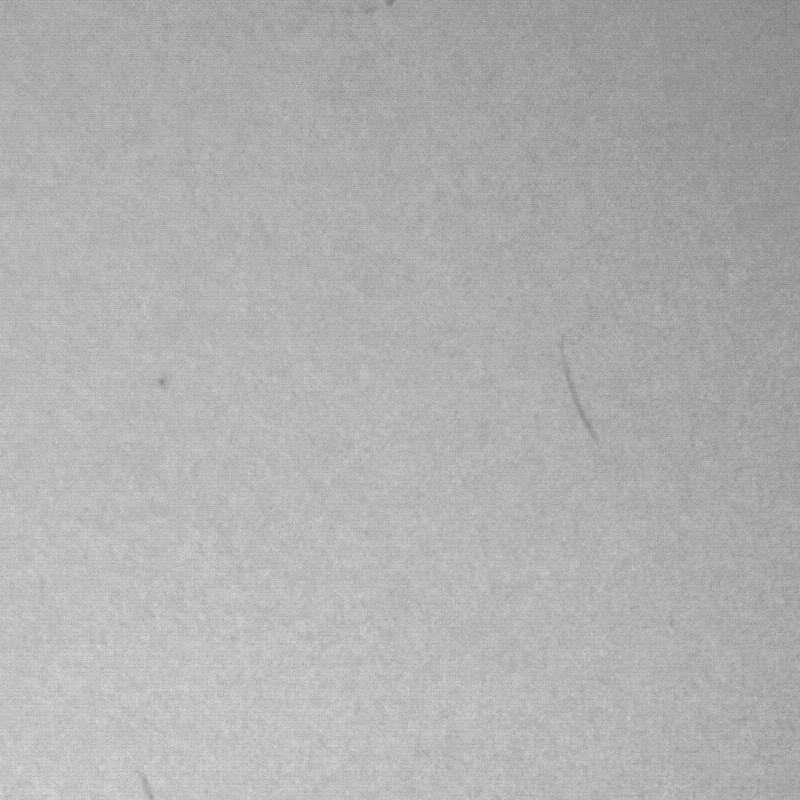defect: (563, 338, 598, 443), (129, 771, 154, 800), (152, 374, 173, 390)
